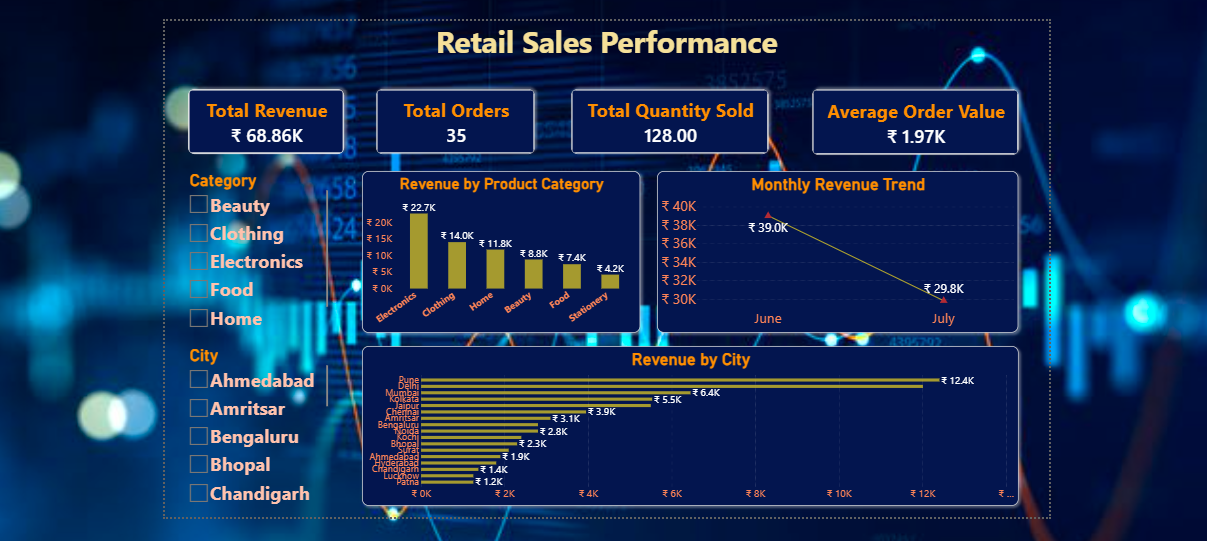

The page's visual inventory and layout, read from the dashboard file:
{"tool":"powerbi","page":{"name":"Sales Overview","canvas":[3840,2160],"ordinal":0},"visuals":[{"type":"textbox","box":[0,0,3840.5,203],"z":0},{"type":"cardVisual","fields":{"Data":["OrderItems.Total Revenue"]},"box":[98.2,294.5,679.4,282.8],"z":1000},{"type":"cardVisual","fields":{"Data":["OrderItems.Total Orders","OrderItems.Total Orders"]},"box":[919,294.5,691.2,282.8],"z":2000},{"type":"cardVisual","fields":{"Data":["OrderItems.Total Quantity Sold"]},"box":[1763.3,294.5,860.1,282.8],"z":3000},{"type":"cardVisual","fields":{"Data":["OrderItems.Average Order Value"]},"box":[2811.9,294.5,899.3,286.7],"z":4000},{"type":"clusteredColumnChart","title":"Revenue by Product Category","fields":{"Category":["Products.Category"],"Y":["OrderItems.Total Revenue"]},"box":[855.4,652.3,1209.6,704.2],"z":5000},{"type":"clusteredBarChart","title":"Revenue by City","fields":{"Category":["Customers.City"],"Y":["OrderItems.Total Revenue"]},"box":[856.1,1413.8,2855.1,695.1],"z":6000},{"type":"lineChart","title":"Monthly Revenue Trend","fields":{"Category":["Orders.OrderDate.Variation.Date Hierarchy.Month"],"Y":["OrderItems.Total Revenue"]},"box":[2140.4,651.9,1570.9,703],"z":7000},{"type":"slicer","fields":{"Values":["Products.Category"]},"box":[99.4,652.3,609.1,695.5],"z":8000},{"type":"slicer","fields":{"Values":["Customers.City"]},"box":[99.4,1412.6,609.1,695.5],"z":9000}]}

Visuals, with their boxes on the page's 3840x2160 design canvas (x1, y1, x2, y2). These are canvas units, not pixel positions in the 1207x541 screenshot, which may show the page scaled, cropped or inside an application window:
textbox: pyautogui.locateOnScreen(0, 0, 3840, 203)
cardVisual - OrderItems.Total Revenue: pyautogui.locateOnScreen(98, 294, 778, 577)
cardVisual - OrderItems.Total Orders x OrderItems.Total Orders: pyautogui.locateOnScreen(919, 294, 1610, 577)
cardVisual - OrderItems.Total Quantity Sold: pyautogui.locateOnScreen(1763, 294, 2623, 577)
cardVisual - OrderItems.Average Order Value: pyautogui.locateOnScreen(2812, 294, 3711, 581)
"Revenue by Product Category" clusteredColumnChart: pyautogui.locateOnScreen(855, 652, 2065, 1356)
"Revenue by City" clusteredBarChart: pyautogui.locateOnScreen(856, 1414, 3711, 2109)
"Monthly Revenue Trend" lineChart: pyautogui.locateOnScreen(2140, 652, 3711, 1355)
slicer - Products.Category: pyautogui.locateOnScreen(99, 652, 708, 1348)
slicer - Customers.City: pyautogui.locateOnScreen(99, 1413, 708, 2108)
